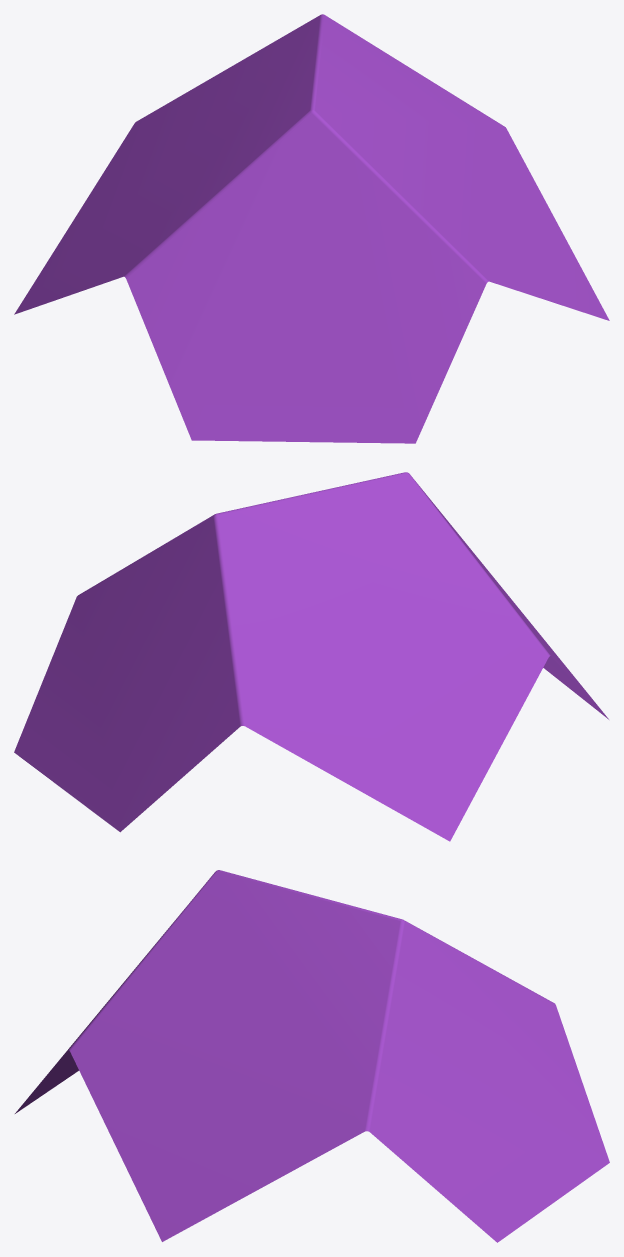
The model's file is Rock.gltf.
The picture shows the model from 3 angles, top to bottom: view 1: azimuth 30°, elevation 25°; view 2: azimuth 150°, elevation 25°; view 3: azimuth 270°, elevation 25°; orthographic projection. The views are drawn at different scales.
Visible parts, largest first — view 1: Plane.018; view 2: Plane.018; view 3: Plane.018.
Part boxes in pixels (<box>): Plane.018: <box>14,14,609,443</box>; Plane.018: <box>14,472,608,841</box>; Plane.018: <box>15,870,609,1242</box>.
Bounding box in the file's own units: 3.18 × 1.76 × 3.86.
